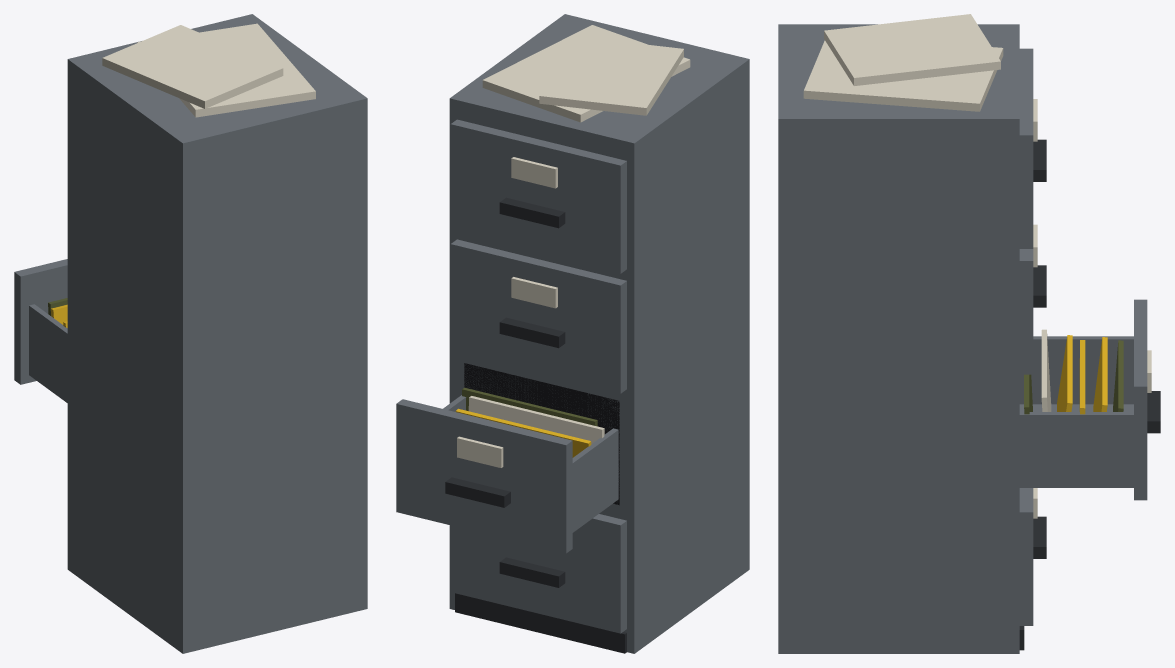
Rendered from filing.glb.
The picture shows the model from 3 angles, left to right: view 1: azimuth 30°, elevation 25°; view 2: azimuth 150°, elevation 25°; view 3: azimuth 270°, elevation 25°; orthographic projection. The views are drawn at different scales.
Visible parts, largest first — view 1: filing; view 2: filing; view 3: filing.
Part boxes in pixels (x1=…): filing: x1=14, y1=14, x2=367, y2=653; filing: x1=396, y1=14, x2=749, y2=653; filing: x1=778, y1=14, x2=1160, y2=653.
Bounding box in the file's own units: 0.5 × 1.36 × 0.855.
6 materials, 6 textured.
